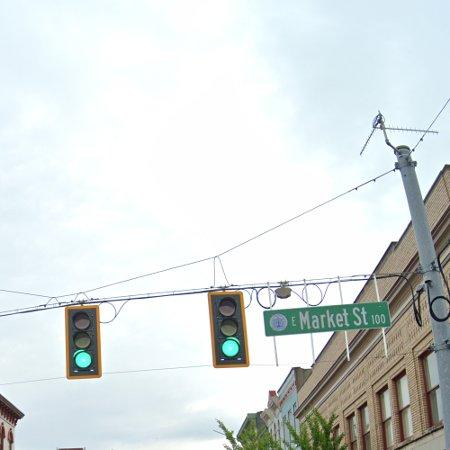traffic lights: (209, 293, 249, 368)
